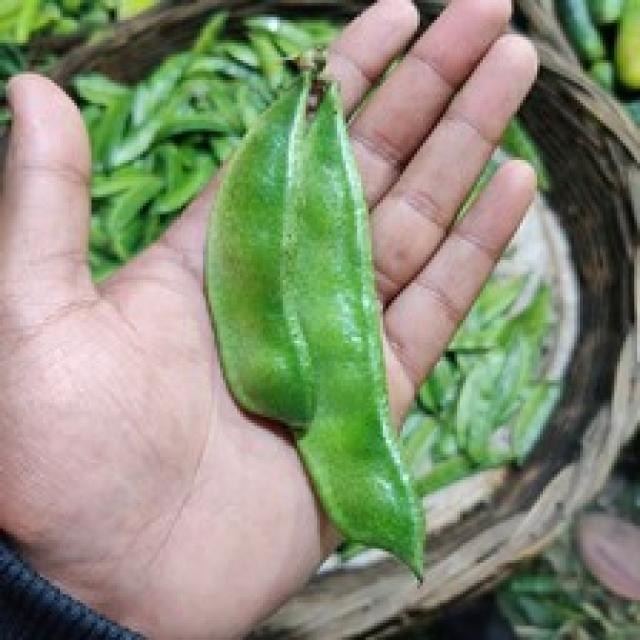Bean: (200, 63, 426, 583)
